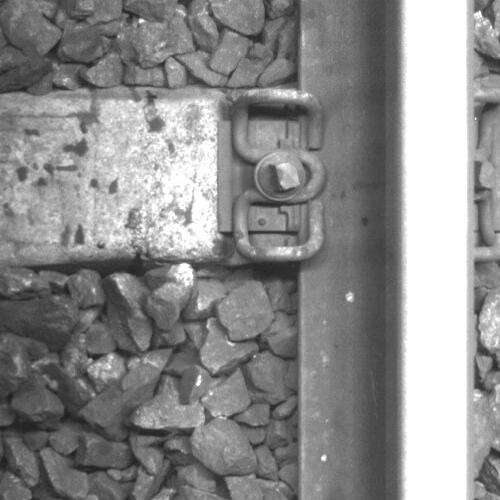rail: (400, 1, 474, 500)
tie_concr: (1, 99, 296, 260)
vossloh: (216, 88, 326, 264)
